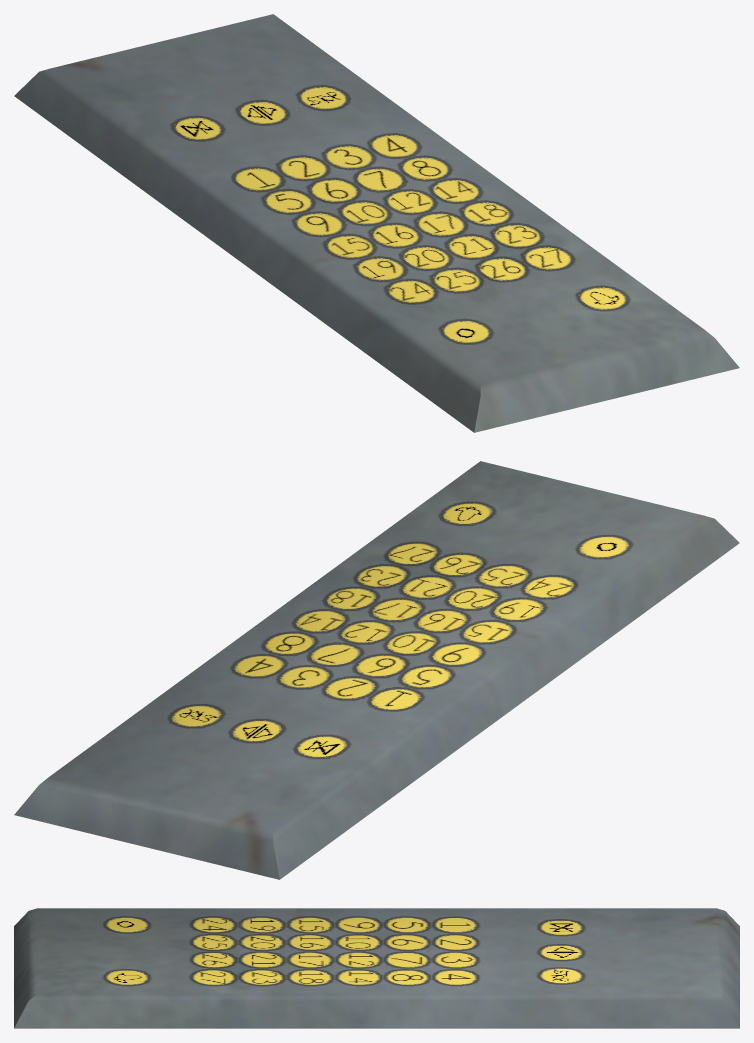
File: elevatorButtons.dae
3 views of the same model, one above another, from view 1: azimuth 30°, elevation 25°; view 2: azimuth 150°, elevation 25°; view 3: azimuth 270°, elevation 25° (orthographic). The views are drawn at different scales.
Visible parts, largest first — view 1: pPlane3; view 2: pPlane3; view 3: pPlane3.
Part boxes in pixels (x1,y1,x2,y2): pPlane3: [14, 14, 739, 432]; pPlane3: [14, 461, 739, 879]; pPlane3: [14, 908, 739, 1028].
Size of the model in its own units: 0.3504 by 0.0414 by 1.05.
1 material, 1 textured.
